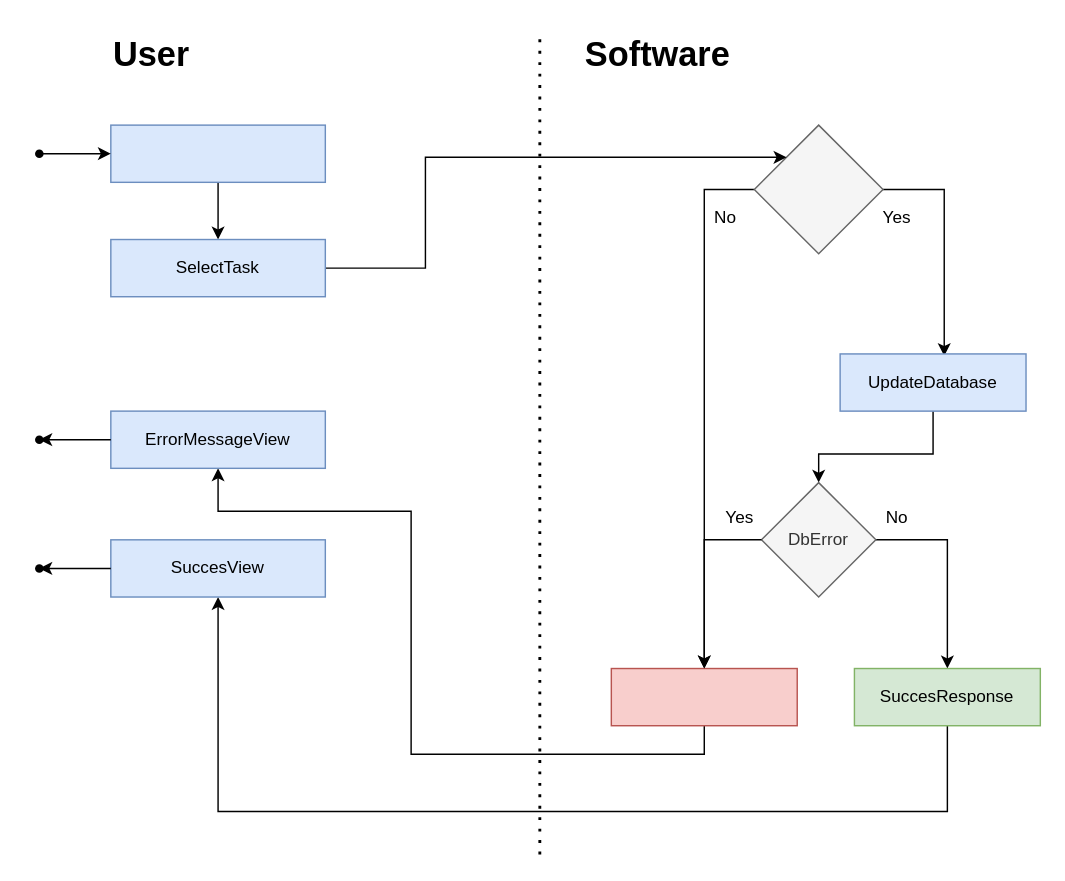
This 1065x881 diagram has some shape labels left out. Here are the shapes that lost their labels. From the top down, the centre of each, then its label:
pixel 217 153: SelectProject
pixel 818 189: IsAuthorized Owner
pixel 703 696: ErrorResponse
